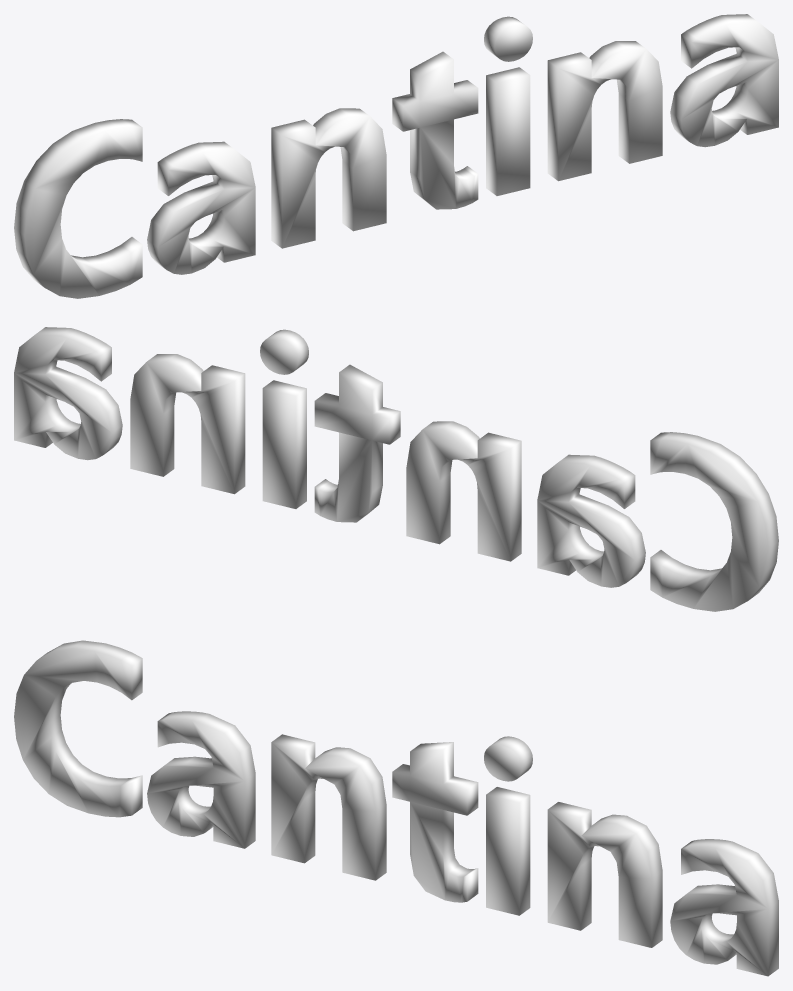
The model's file is teste2.dae.
3 views of the same model, one above another, from view 1: azimuth 30°, elevation 25°; view 2: azimuth 150°, elevation 25°; view 3: azimuth 330°, elevation 25° (orthographic).
Visible parts, largest first — view 1: Object_0; view 2: Object_0; view 3: Object_0.
Part boxes in pixels (<box>): Object_0: <box>14,14,778,298</box>; Object_0: <box>14,327,778,611</box>; Object_0: <box>14,640,778,976</box>.
Bounding box in the file's own units: 0.6035 × 0.015 × 0.1297.
Materials: 1 (1 with a texture image).
